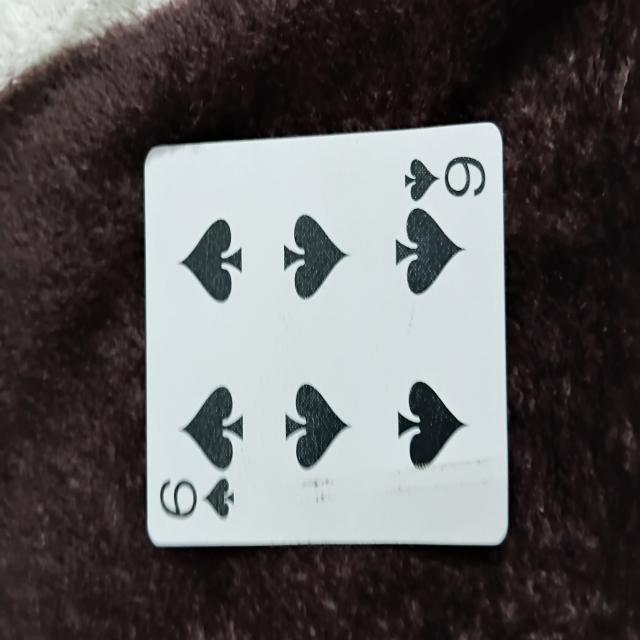6S: (141, 124, 511, 552)
